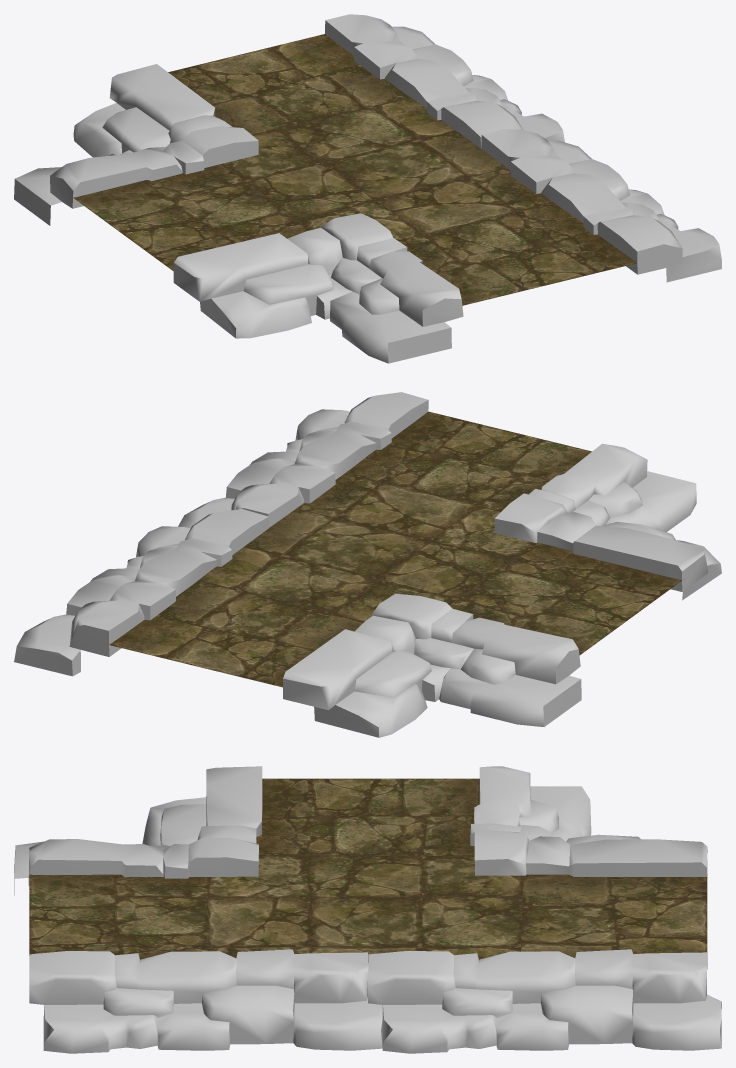
Rendered from Road_Corner_02.fbx.
The picture shows the model from 3 angles, top to bottom: view 1: azimuth 30°, elevation 25°; view 2: azimuth 150°, elevation 25°; view 3: azimuth 270°, elevation 25°; orthographic projection. The views are drawn at different scales.
Visible parts, largest first — view 1: Road_Corner_02_LOD0; view 2: Road_Corner_02_LOD0; view 3: Road_Corner_02_LOD0.
Boxes of the visible parts, x1,y1,x2,y2 form: Road_Corner_02_LOD0: (14, 14, 721, 363); Road_Corner_02_LOD0: (14, 392, 721, 737); Road_Corner_02_LOD0: (14, 766, 721, 1053).
Size of what is drawn, in the model's own units: 5.16 by 0.5389 by 6.27.
